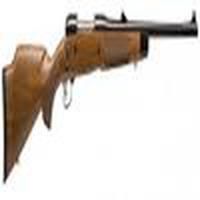gun: (3, 13, 200, 140)
